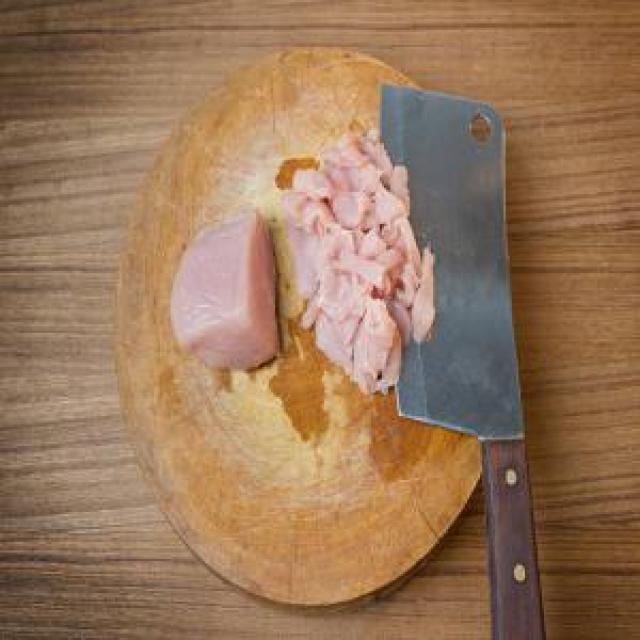knife: (380, 79, 552, 638)
